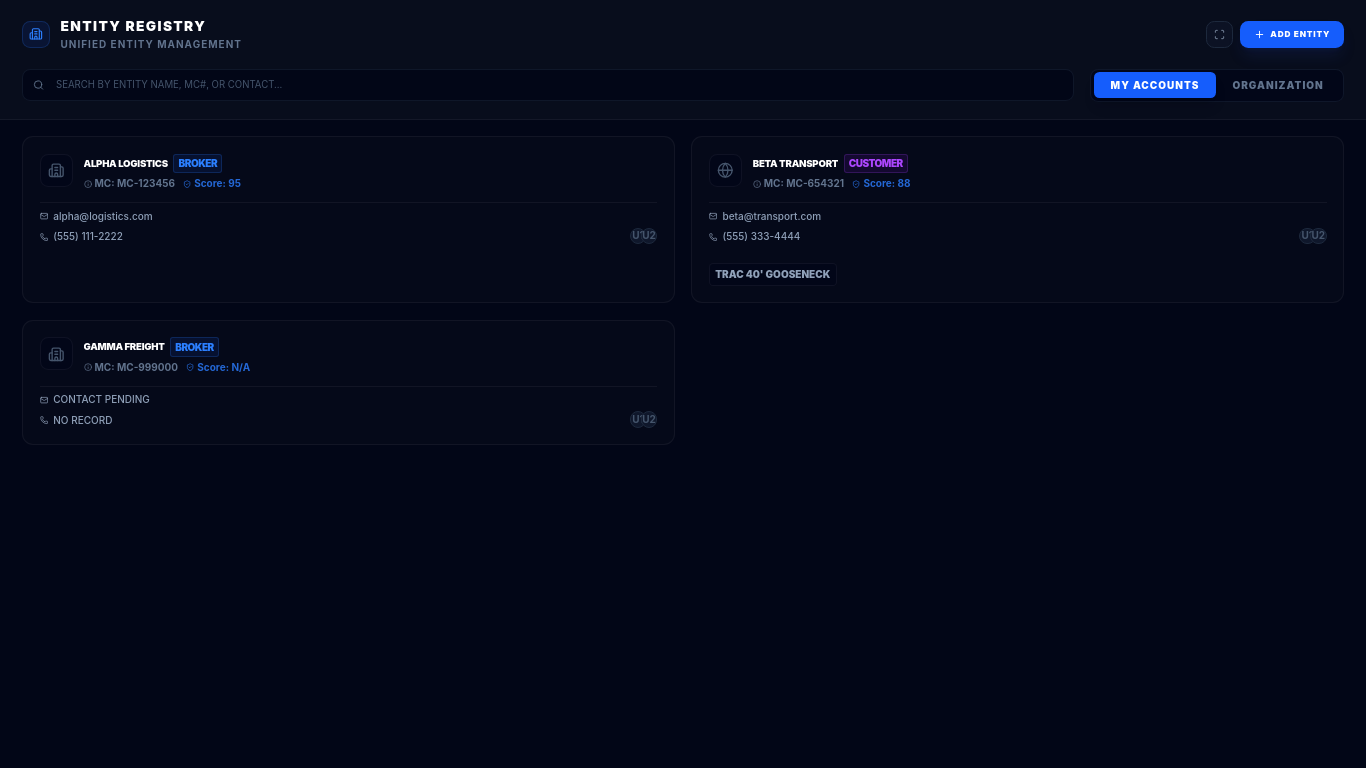
Test: BrokerManager component › chassis management in form › shows empty chassis message initially
What coordinates should you click on to do the following:
click the button "Add Entity"
I would click on:
 (1292, 34)
Its box is [1240, 21, 1344, 48].
(page scrolled)
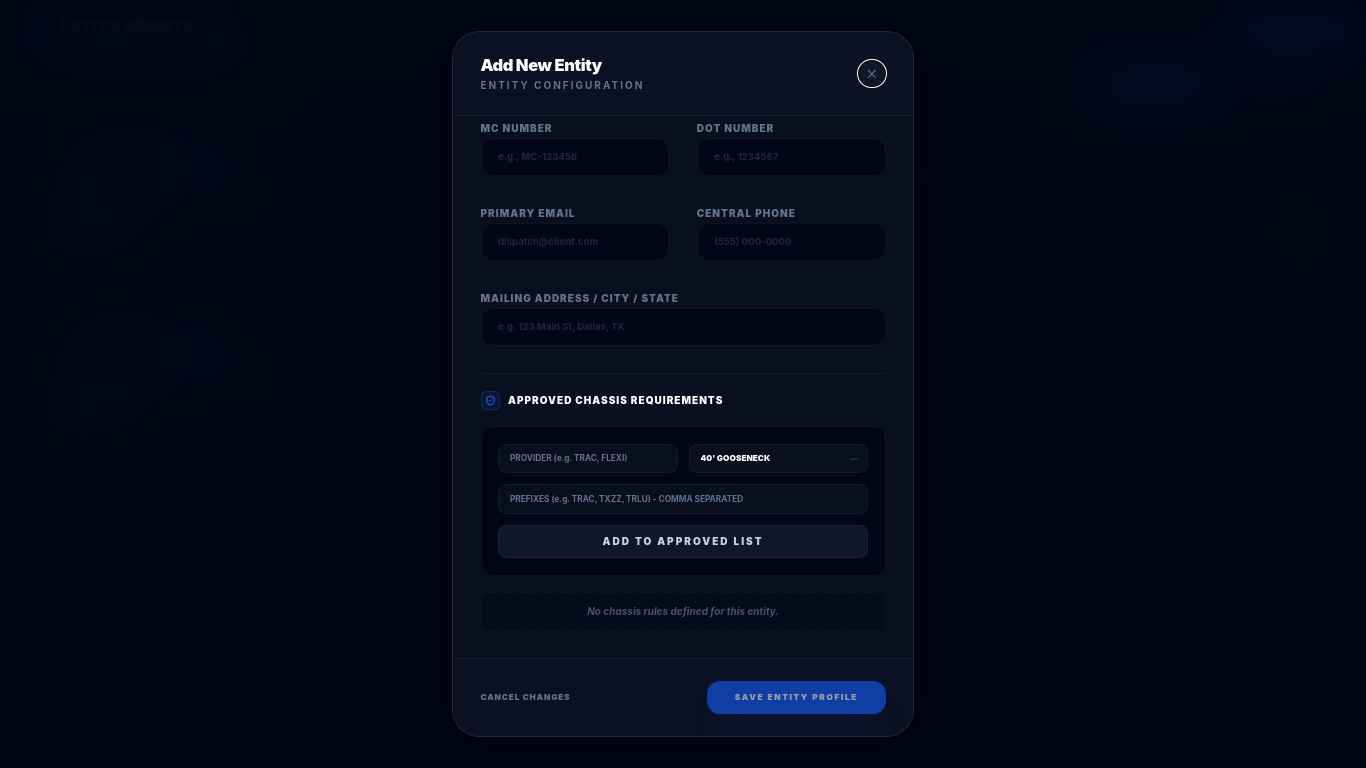
Expected: the text "No chassis rules defined for this entity." is shown, [480, 592, 886, 632]
